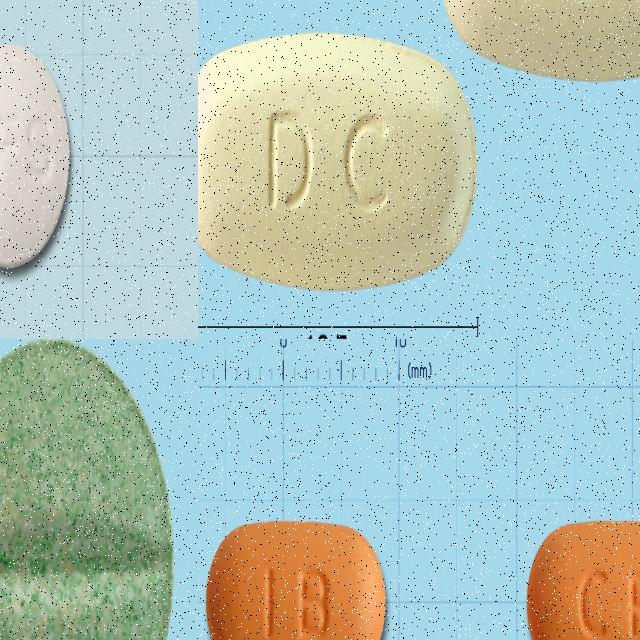Bydoxy: (0, 339, 178, 640)
Ciproxin: (0, 36, 75, 274)
Clacin -500mg: (205, 516, 391, 640), (524, 517, 640, 640)
Clavix: (198, 24, 482, 300), (433, 0, 640, 87)
